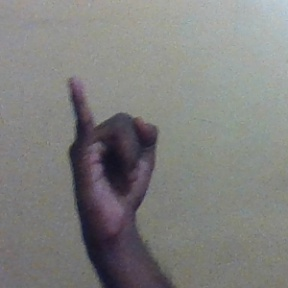I: (58, 73, 166, 236)
